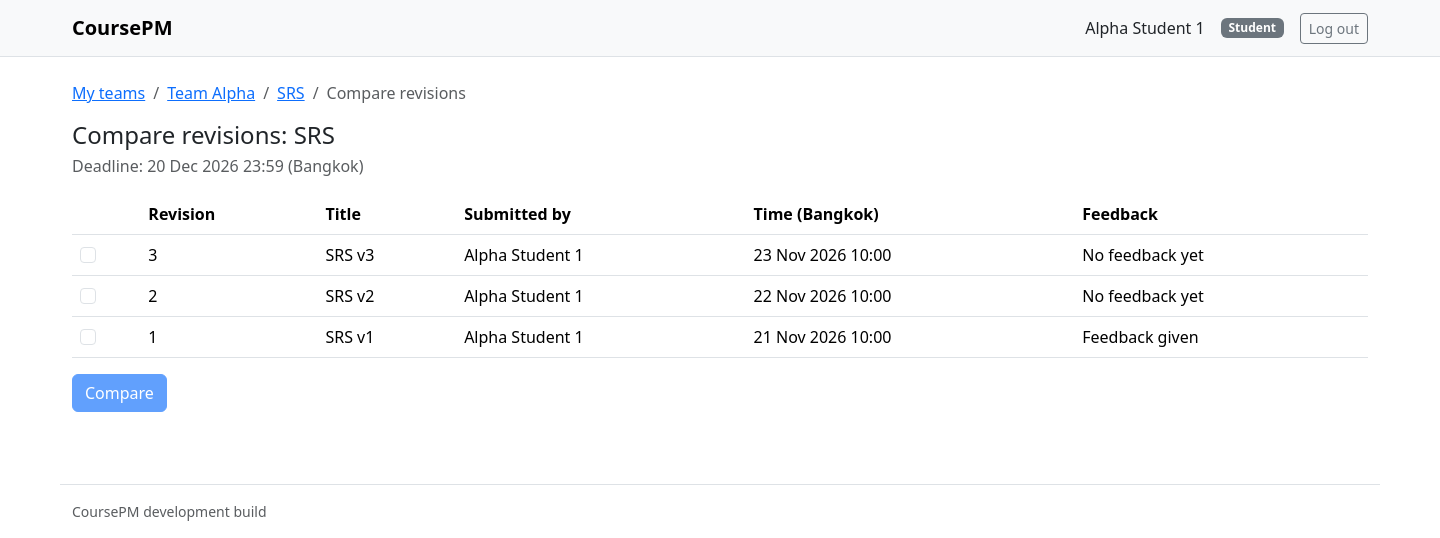
it: TEST-UI-07H (AC-07-7, AC-07-8): the revisions page › Compare is disabled until exactly two are checked, and a third checkbox is then disabled
Expected: the button "Compare" is disabled, [72, 374, 167, 412]
What coordinates should you click on to do the following:
click the checkbox named "Select revision 3"
I would click on:
 (88, 255)
Its box is [80, 247, 96, 263].
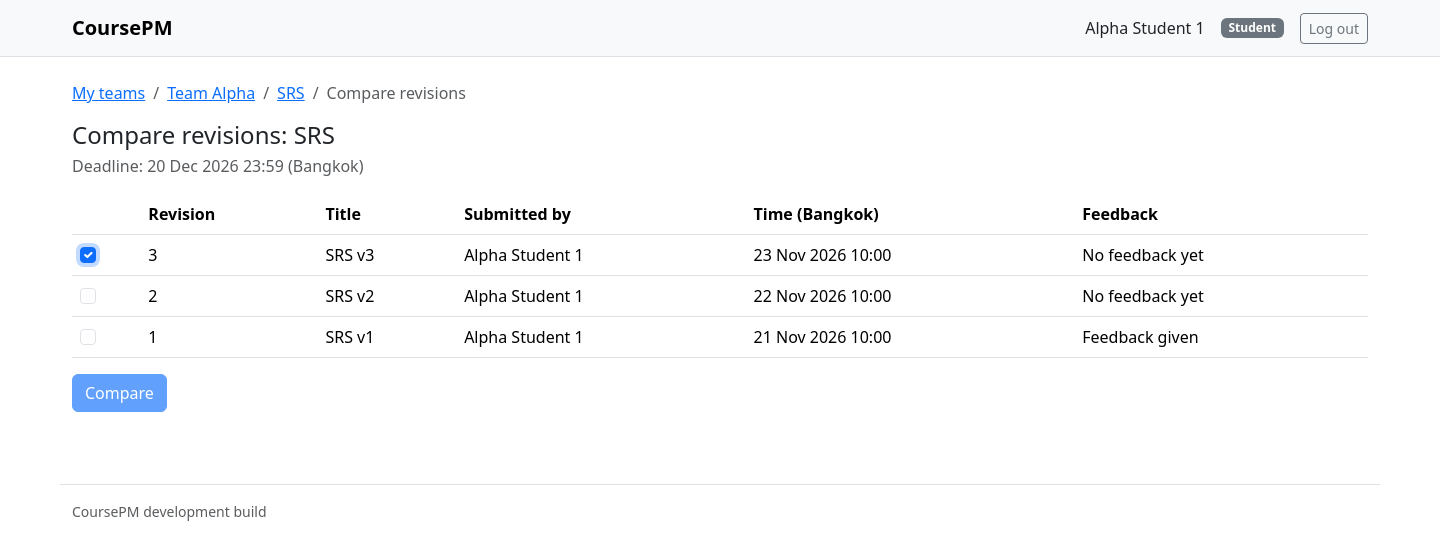
Expected: the button "Compare" is disabled, [72, 374, 167, 412]
What coordinates should you click on to do the following:
click the checkbox named "Select revision 1"
I would click on:
 (88, 337)
Its box is [80, 329, 96, 345].
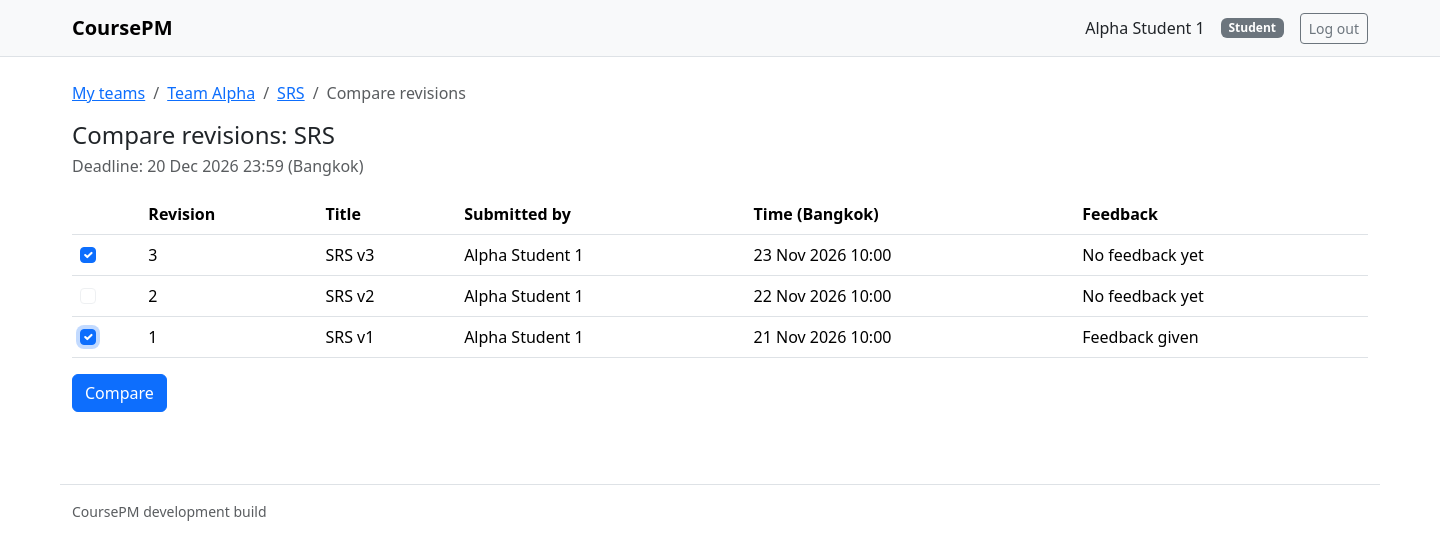
Expected: the button "Compare" is enabled, [72, 374, 167, 412]
What coordinates should you click on to do the following:
click the checkbox named "Select revision 1"
I would click on:
 (88, 337)
Its box is [80, 329, 96, 345].
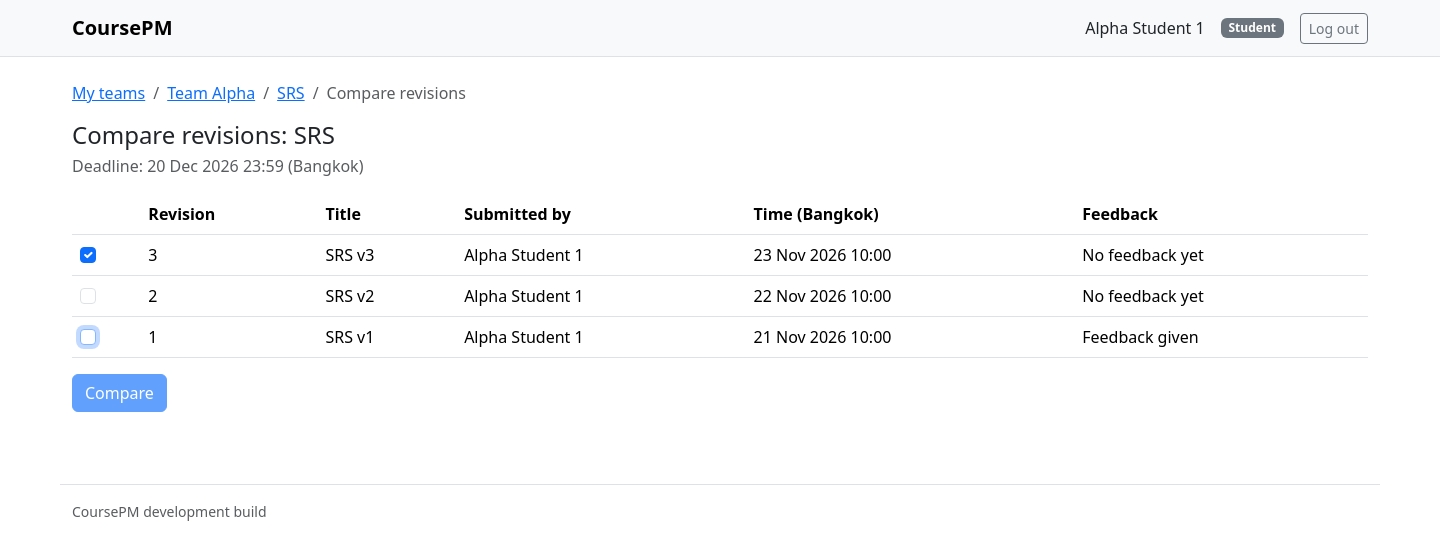
Expected: the checkbox named "Select revision 2" is enabled, [80, 288, 96, 304]
Expected: the button "Compare" is disabled, [72, 374, 167, 412]
